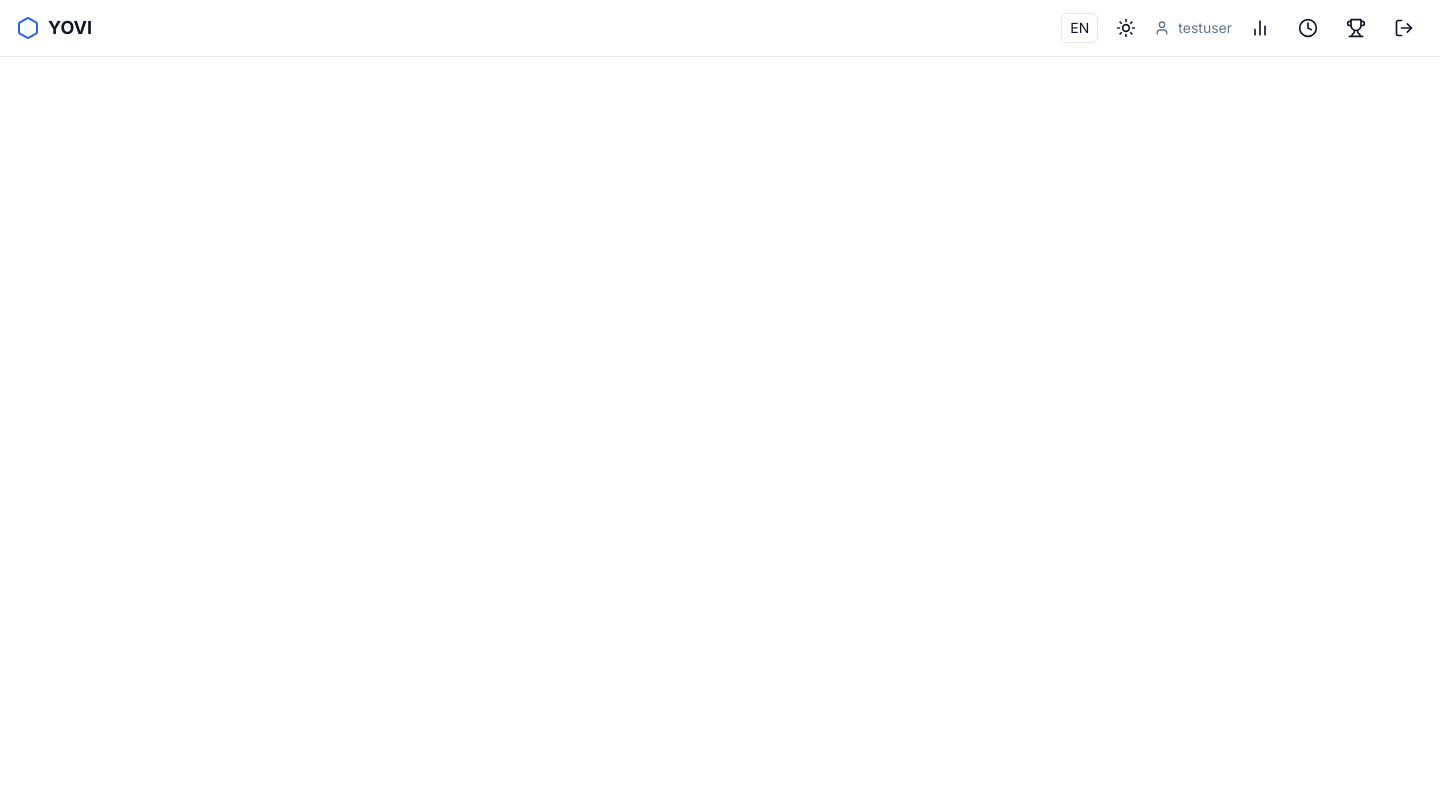
Scenario: AppNavbar — logout flow › opens the logout confirmation dialog when Logout is clicked
Click the button named "Logout": (1404, 28) [1384, 8, 1424, 48]
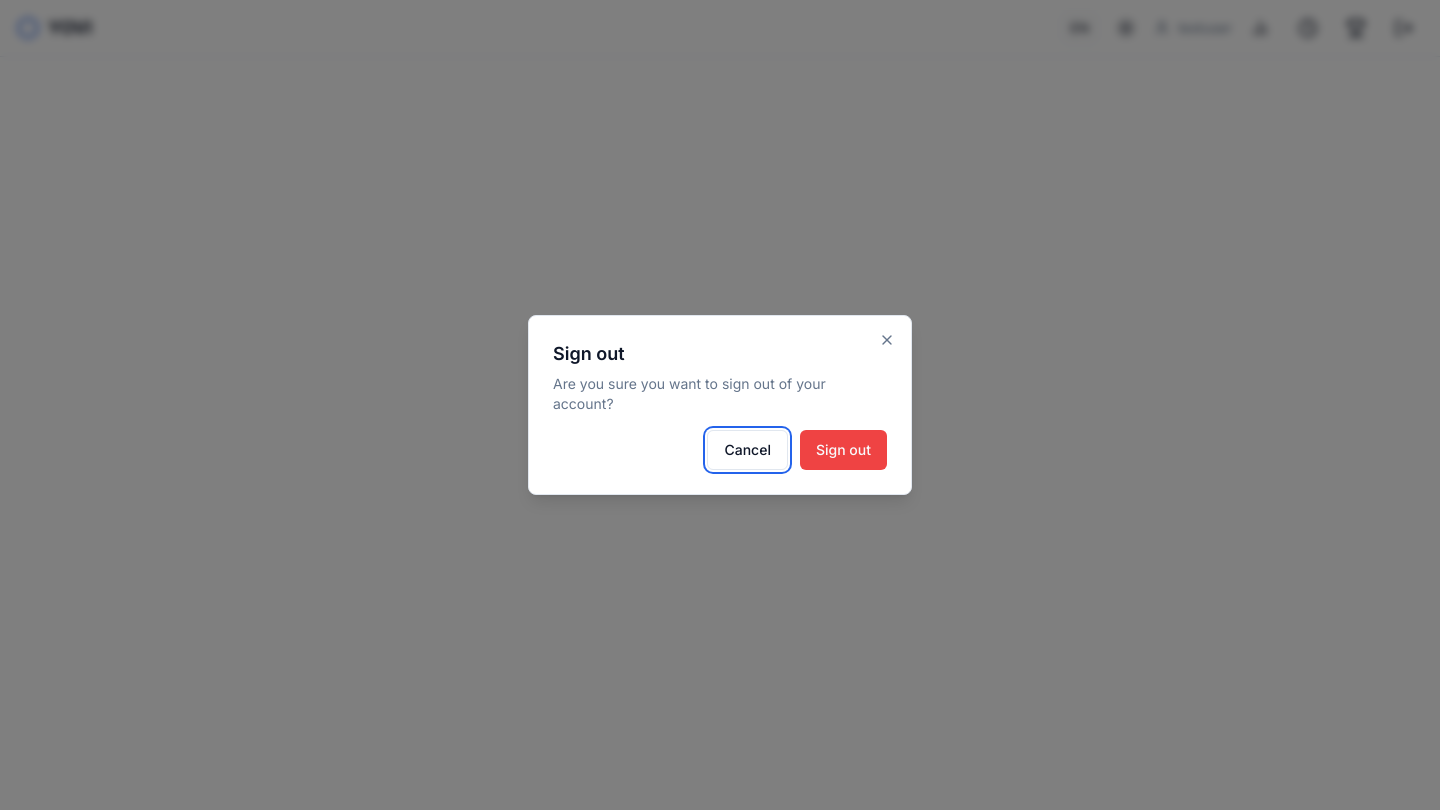
Expected: the text "Are you sure you want to sign out of your account?" is shown, [553, 375, 826, 412]
